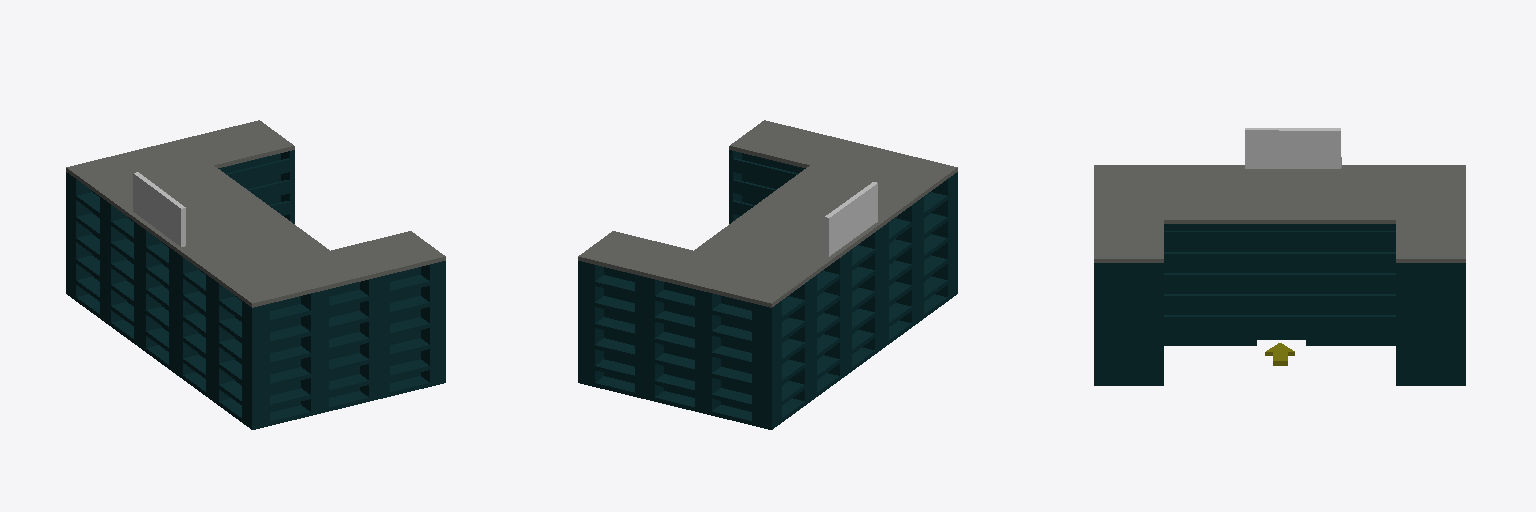
The picture shows the model from 3 angles: view 1: azimuth 30°, elevation 25°; view 2: azimuth 150°, elevation 25°; view 3: azimuth 270°, elevation 25°; orthographic projection.
Parts seen in each view (by area): view 1: lll1.002, Cube.005_Cube.001; view 2: lll1.002, Cube.005_Cube.001; view 3: lll1.002, Cube.005_Cube.001.
Boxes of the visible parts, <box> form: lll1.002: <box>66,120,445,429</box>; Cube.005_Cube.001: <box>133,172,185,246</box>; lll1.002: <box>578,120,957,429</box>; Cube.005_Cube.001: <box>824,182,877,256</box>; lll1.002: <box>1094,165,1465,385</box>; Cube.005_Cube.001: <box>1245,128,1341,168</box>.
Bounding box in the file's own units: 48.01 × 39.28 × 80.